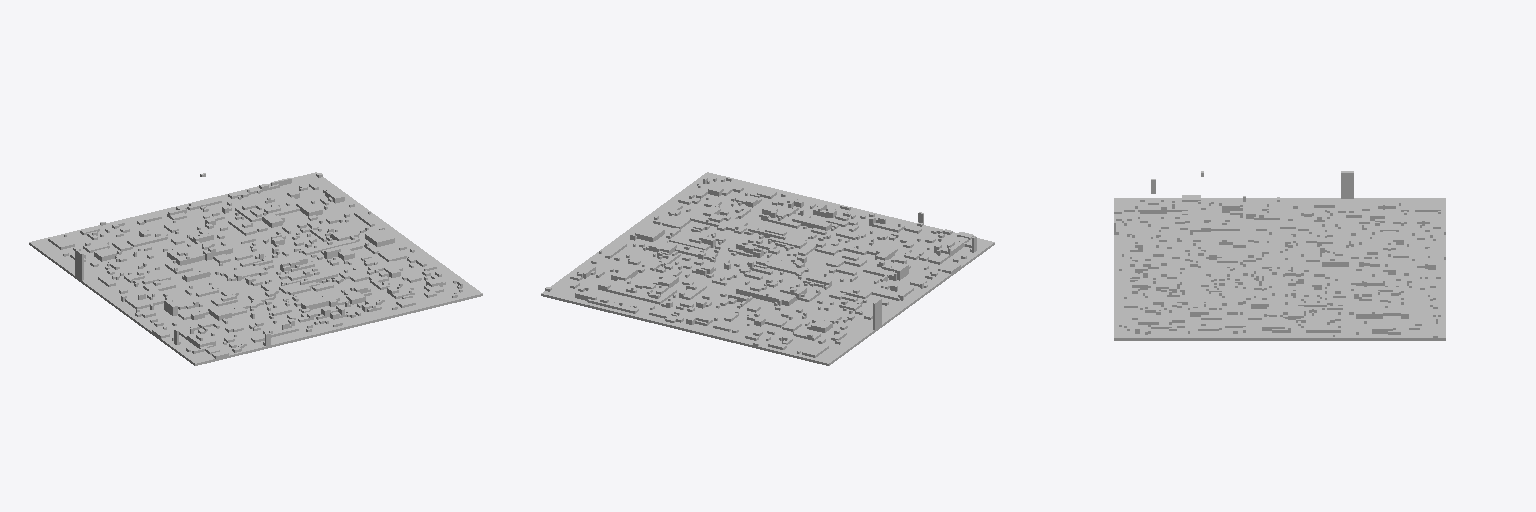
Rendered from lava.obj.
The picture shows the model from 3 angles: view 1: azimuth 30°, elevation 25°; view 2: azimuth 150°, elevation 25°; view 3: azimuth 270°, elevation 25°; orthographic projection.
Parts seen in each view (by area): view 1: lava; view 2: lava; view 3: lava.
Boxes of the visible parts, <box> form: lava: <box>29,172,482,365</box>; lava: <box>541,172,994,365</box>; lava: <box>1114,171,1445,340</box>.
Bounding box in the file's own units: 126 × 12 × 126.